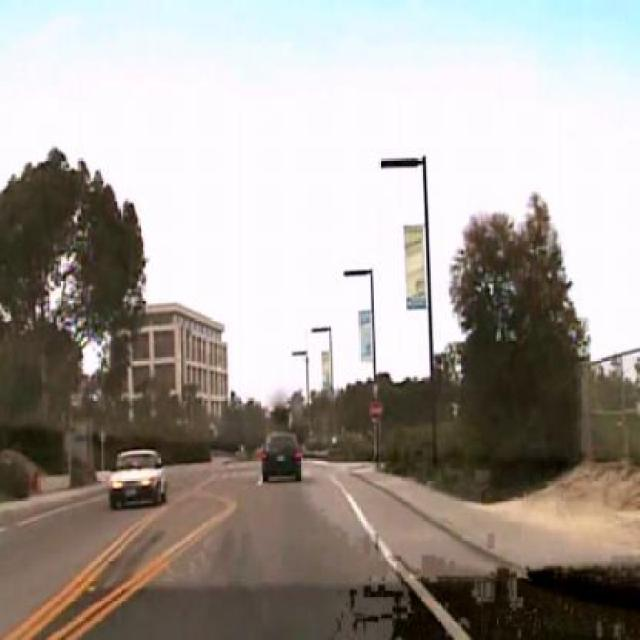stop: (368, 398, 382, 420)
